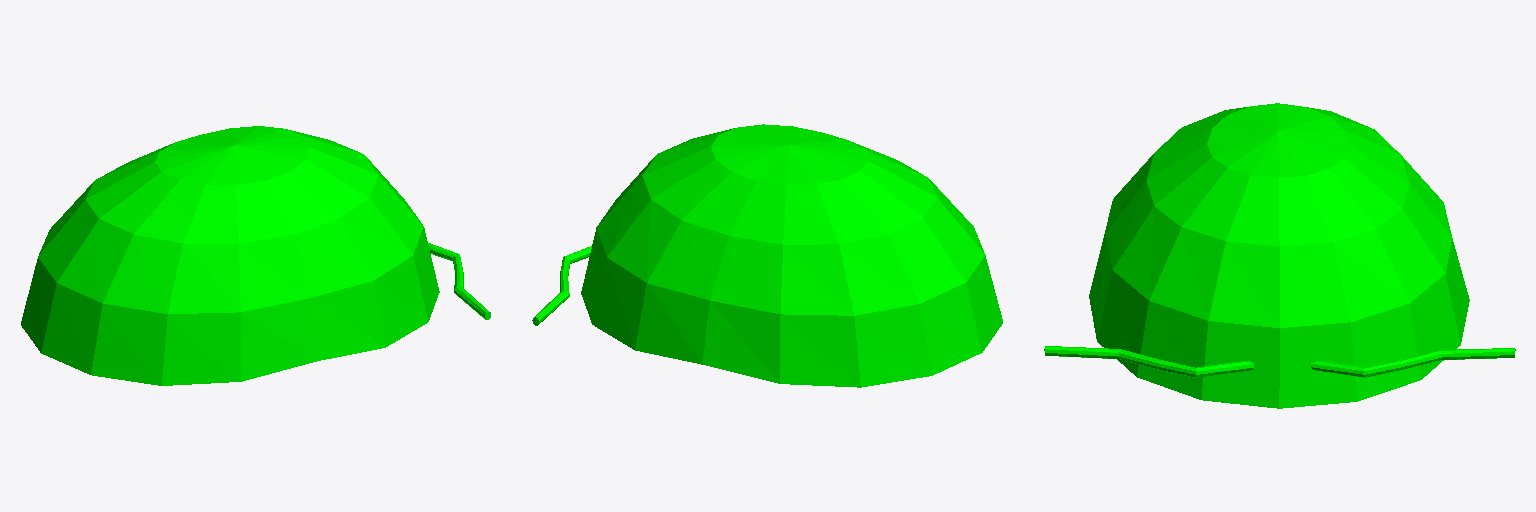
The robot description file, URDF, robot "car":
<?xml version="1.0" ?>

<robot name="car">

	<link name="base_link">
		<inertial>
			<mass value="1" />
			<origin xyz="0 0 0" />
			<inertia
				ixx="0.005"
				ixy="0.0"
				ixz="0.0"
				iyy="0.005"
				iyz="0.0"
				izz="0.005" />
		</inertial>
		<visual>
			<origin
				rpy="1.57 0 0"
				xyz="0 0 0.125" />
			<!-- 
			<geometry>
				<box size="0.75 0.55 0.25" />
			</geometry>
			 -->
			<geometry>
				<mesh
					filename="package://lrm_rbb_grupo_c/urdf/armadillidium.dae"
					scale="0.4 0.4 0.4" />
			</geometry>
			<material name="Green">
				<color rgba="0.0 1.0 0.0 1.0" />
			</material>
		</visual>
		<collision>
			<origin
				rpy="0 0 0"
				xyz="0 0 0.125" />
			<geometry>
				<box size="0.75 0.55 0.25" />
			</geometry>
		</collision>
	</link>

</robot>

--- What the picture shows (computed from the rendered views, not written in the file) ---
Views: 3 orthographic renders of the robot side by side, from view 1: azimuth 30°, elevation 25°; view 2: azimuth 150°, elevation 25°; view 3: azimuth 270°, elevation 25°.
Model car with 1 links and 0 joints (none), rooted at base_link, posed all joints at 0.
Links seen in each view (by area): view 1: base_link; view 2: base_link; view 3: base_link.
Boxes of the visible links, <box> form: base_link: <box>21,126,490,385</box>; base_link: <box>532,124,1002,387</box>; base_link: <box>1044,103,1515,408</box>.
Size in the robot's own frame: 0.8012 by 0.783 by 0.328 metres.
1 mesh visuals loaded from 1 distinct referenced files (1 Collada DAE).
